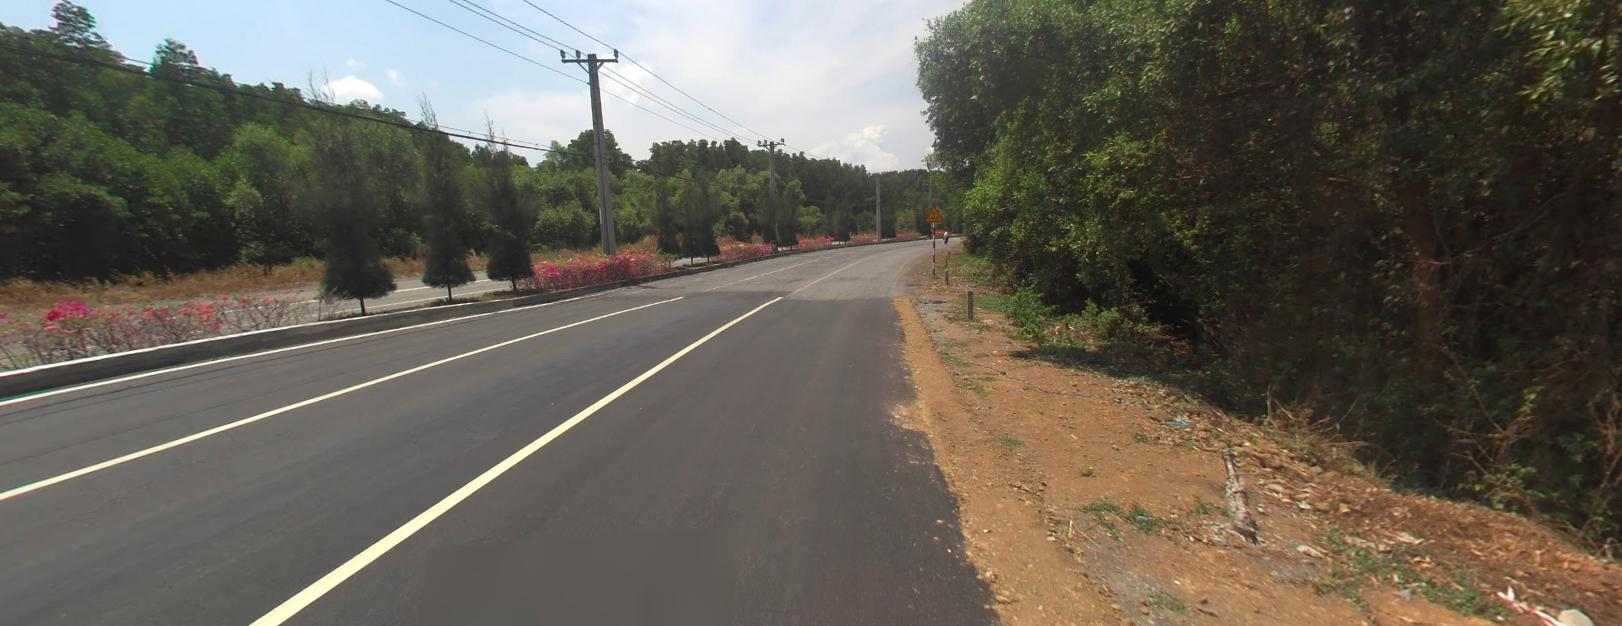Nguy hiem: (925, 204, 942, 219), (925, 205, 942, 220)
